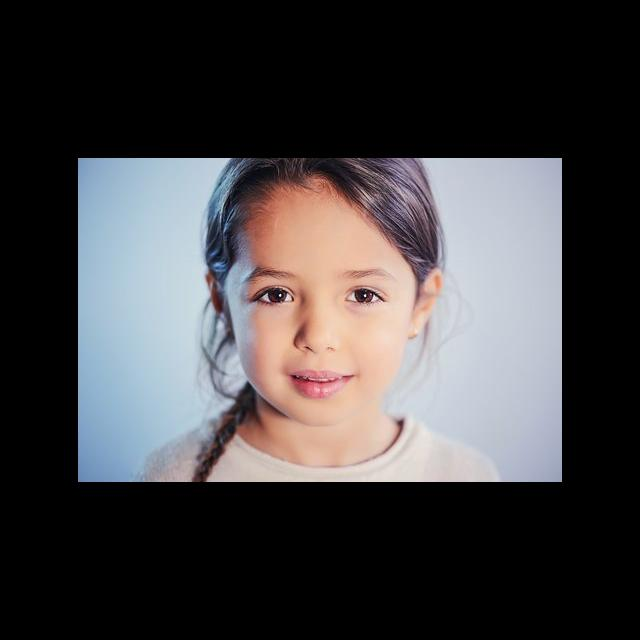female: (192, 158, 458, 396)
